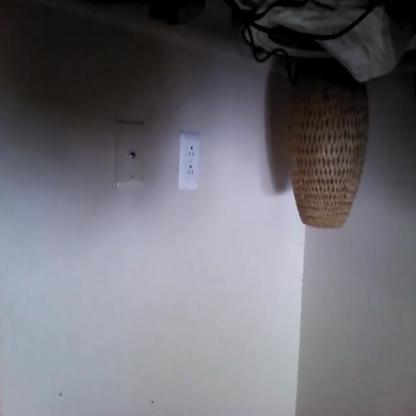OUTLET: (177, 134, 200, 192)
